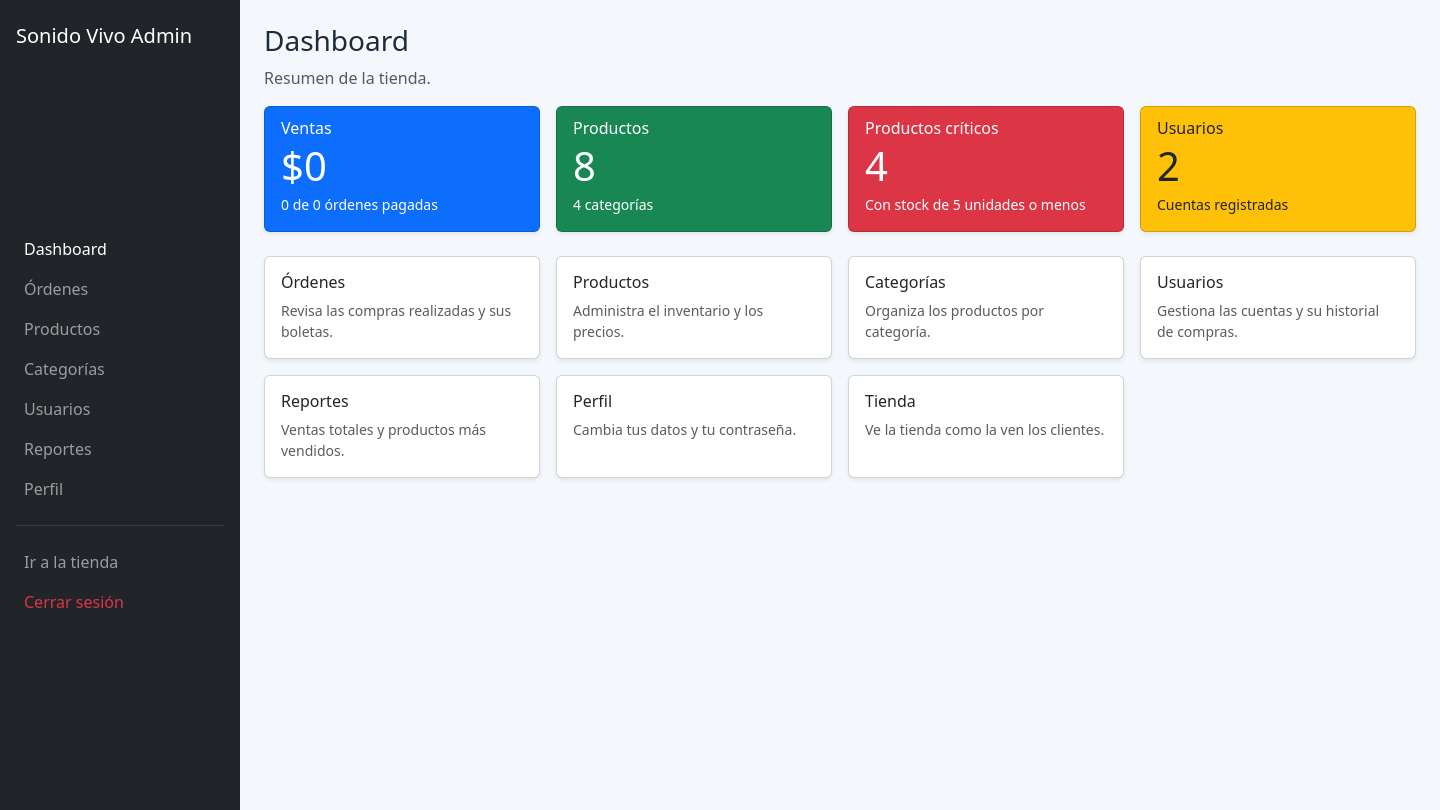
Dashboard y menú lateral › Cerrar sesión cierra la sesión y deja al usuario fuera del panel
What coordinates should you click on to do the following:
click the button "Cerrar sesión"
I would click on:
 (120, 602)
Its box is [16,582,224,622].
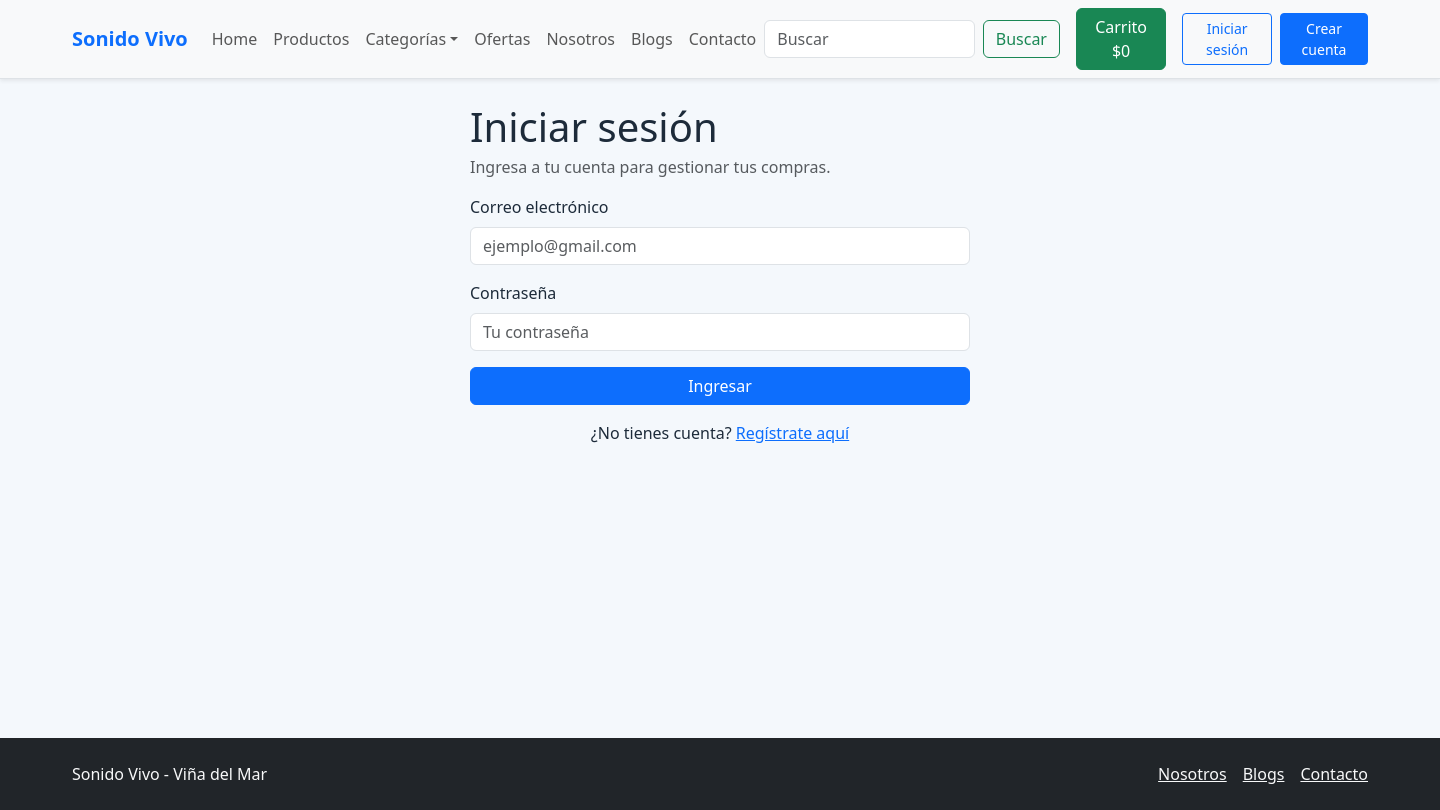
Now the heading "Iniciar sesión" is shown, box [470,99,718,154]
